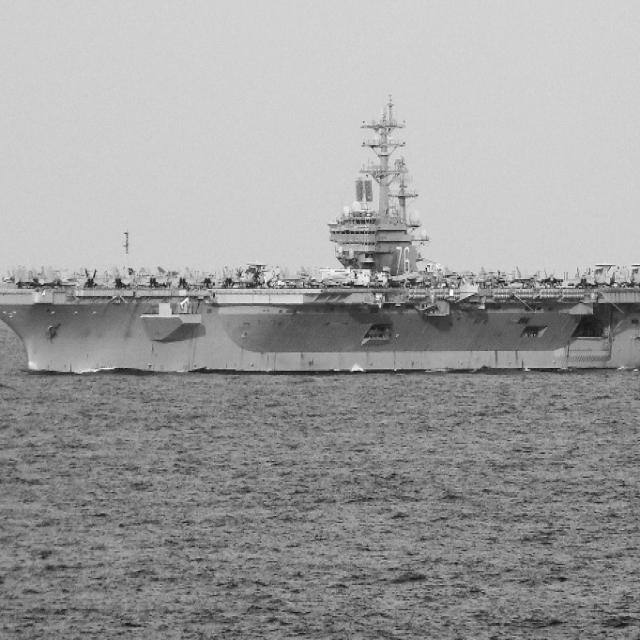Portanaves: (1, 87, 640, 382)
